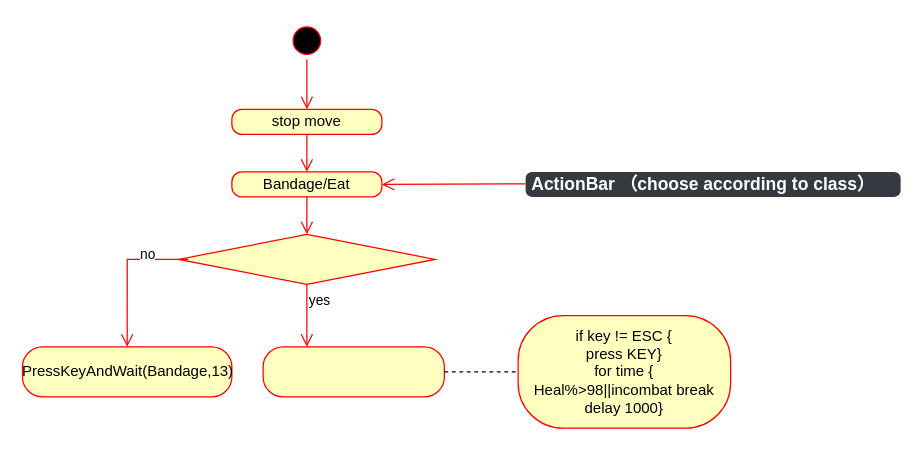
Image size: 923x450. Some labels were removed from this diagram. The box of each missing label's shape, as (x1, y1, x2, y2) in pixels:
Heal% < 40 || Bandage == ESC && Eat != ESC: (178, 233, 435, 284)
PressKeyAndWait(Eat,27) press SPACE: (262, 346, 444, 397)
